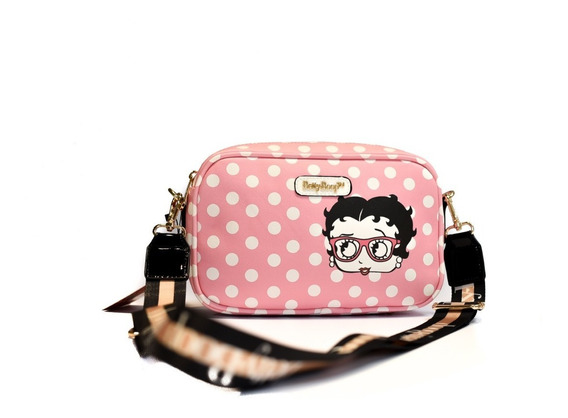cartera: (134, 143, 492, 322)
